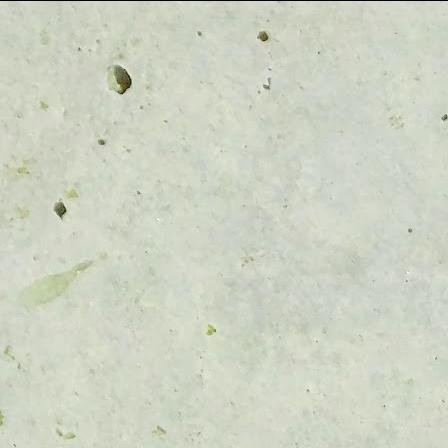spalling: (97, 53, 140, 103)
